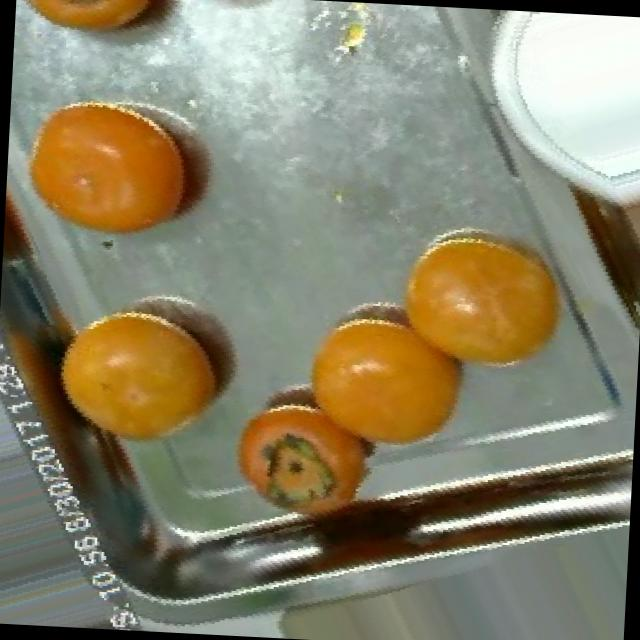Fruit: (26, 272, 258, 472), (3, 72, 233, 268), (278, 286, 508, 478), (14, 0, 173, 51)
